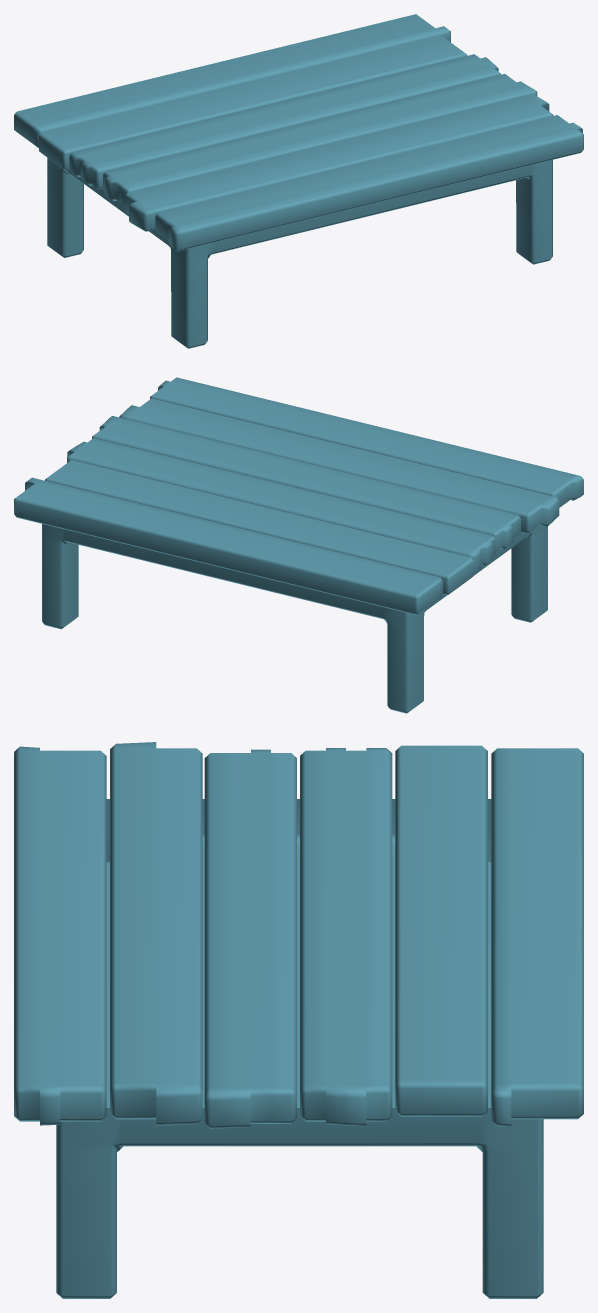
Rendered from Mod_TableBasse_LO_V1_JT.fbx.
3 views of the same model, one above another, from view 1: azimuth 30°, elevation 25°; view 2: azimuth 150°, elevation 25°; view 3: azimuth 270°, elevation 25° (orthographic). The views are drawn at different scales.
Visible parts, largest first — view 1: Table_basse_LO; view 2: Table_basse_LO; view 3: Table_basse_LO.
Part boxes in pixels (x1,y1,x2,y2): Table_basse_LO: (14, 14, 583, 348); Table_basse_LO: (14, 377, 583, 713); Table_basse_LO: (14, 742, 583, 1298).
Size of the model in its own units: 173 by 51.88 by 117.
